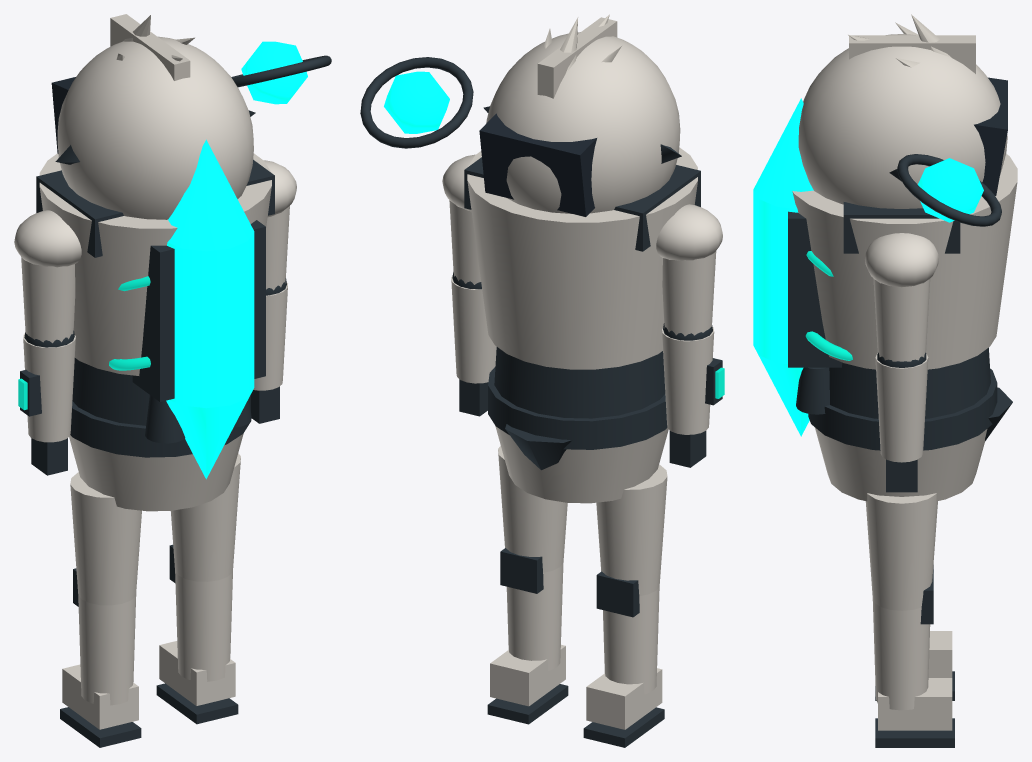
The model's file is explorer.glb.
3 renders of one model, left to right at view 1: azimuth 30°, elevation 25°; view 2: azimuth 150°, elevation 25°; view 3: azimuth 270°, elevation 25°, orthographic.
Visible parts, largest first — view 1: head, crystalCore, torso, chest, rightLowerLegGroup, leftLowerLegGroup, jetpack, leftLeg, leftArm, leftForearmGroup, rightLeg, companionDrone (+3 smaller); view 2: chest, head, torso, leftLowerLegGroup, rightLowerLegGroup, leftArm, leftForearmGroup, leftLeg, companionDrone, rightLeg, rightForearmGroup, rightArm (+1 smaller); view 3: head, chest, torso, crystalCore, rightLowerLegGroup, rightLeg, rightArm, jetpack, rightForearmGroup, companionDrone, crest, leftLowerLegGroup.
Part boxes in pixels (x1=…): head: x1=51, y1=36, x2=255, y2=219; crystalCore: x1=166, y1=139, x2=254, y2=479; torso: x1=36, y1=159, x2=274, y2=511; chest: x1=39, y1=153, x2=271, y2=375; rightLowerLegGroup: x1=156, y1=544, x2=238, y2=724; leftLowerLegGroup: x1=60, y1=568, x2=141, y2=747; jetpack: x1=109, y1=220, x2=265, y2=443; leftLeg: x1=70, y1=472, x2=141, y2=605; leftArm: x1=14, y1=210, x2=81, y2=343; leftForearmGroup: x1=18, y1=330, x2=75, y2=475; rightLeg: x1=170, y1=453, x2=240, y2=581; companionDrone: x1=231, y1=41, x2=331, y2=104; chest: x1=467, y1=147, x2=697, y2=369; head: x1=479, y1=32, x2=681, y2=216; torso: x1=464, y1=157, x2=700, y2=503; leftLowerLegGroup: x1=583, y1=571, x2=664, y2=747; rightLowerLegGroup: x1=487, y1=548, x2=568, y2=724; leftArm: x1=656, y1=204, x2=722, y2=336; leftForearmGroup: x1=662, y1=323, x2=724, y2=467; leftLeg: x1=596, y1=464, x2=667, y2=596; companionDrone: x1=360, y1=57, x2=473, y2=148; rightLeg: x1=498, y1=445, x2=567, y2=572; rightForearmGroup: x1=451, y1=272, x2=496, y2=416; rightArm: x1=442, y1=154, x2=480, y2=284; head: x1=798, y1=34, x2=1007, y2=208; chest: x1=792, y1=153, x2=1017, y2=369; torso: x1=808, y1=202, x2=1012, y2=501; crystalCore: x1=753, y1=98, x2=813, y2=436; rightLowerLegGroup: x1=872, y1=572, x2=954, y2=747; rightLeg: x1=865, y1=493, x2=937, y2=610; rightArm: x1=865, y1=233, x2=938, y2=361; jetpack: x1=788, y1=211, x2=852, y2=414; rightForearmGroup: x1=875, y1=352, x2=928, y2=492; companionDrone: x1=897, y1=154, x2=1001, y2=226; crest: x1=848, y1=14, x2=975, y2=73; leftLowerLegGroup: x1=875, y1=565, x2=954, y2=700.
Bounding box in the file's own units: 1.43 × 2.92 × 0.9962.
